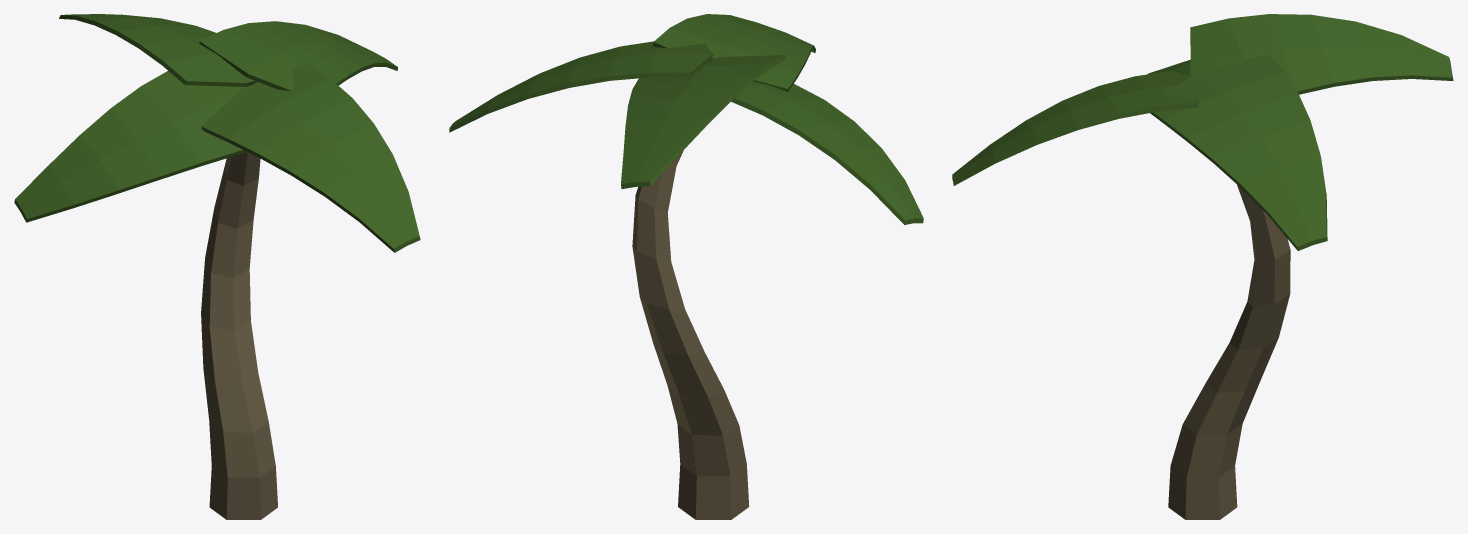
Rendered from Palm 1.fbx.
3 renders of one model, left to right at view 1: azimuth 30°, elevation 25°; view 2: azimuth 150°, elevation 25°; view 3: azimuth 270°, elevation 25°, orthographic. The views are drawn at different scales.
Visible parts, largest first — view 1: Palm 1; view 2: Palm 1; view 3: Palm 1.
Boxes of the visible parts, bbox=[...] form: Palm 1: bbox=[14, 14, 420, 519]; Palm 1: bbox=[449, 14, 923, 519]; Palm 1: bbox=[952, 14, 1453, 519].
Size of the model in its own units: 580 by 614 by 608.
